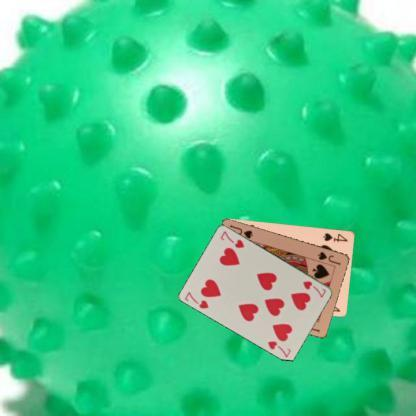4s: (320, 230, 350, 244)
7h: (182, 289, 210, 310), (300, 278, 328, 298)
Js: (315, 248, 342, 266)
